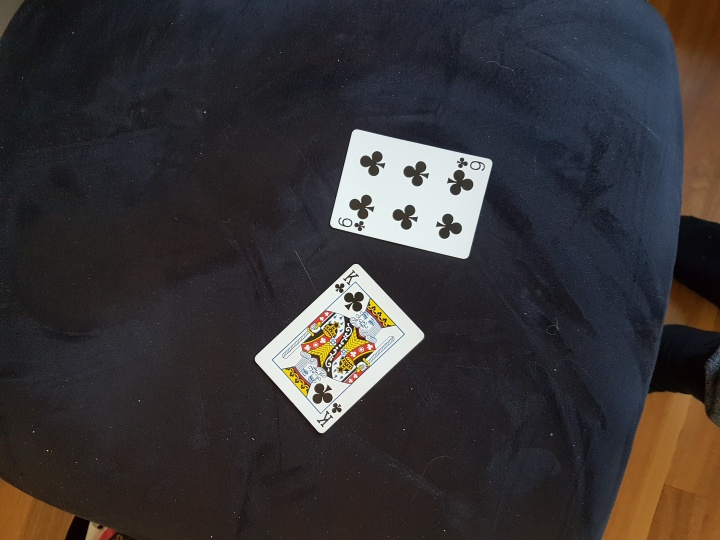6: (319, 127, 499, 261)
king: (251, 260, 433, 446)
